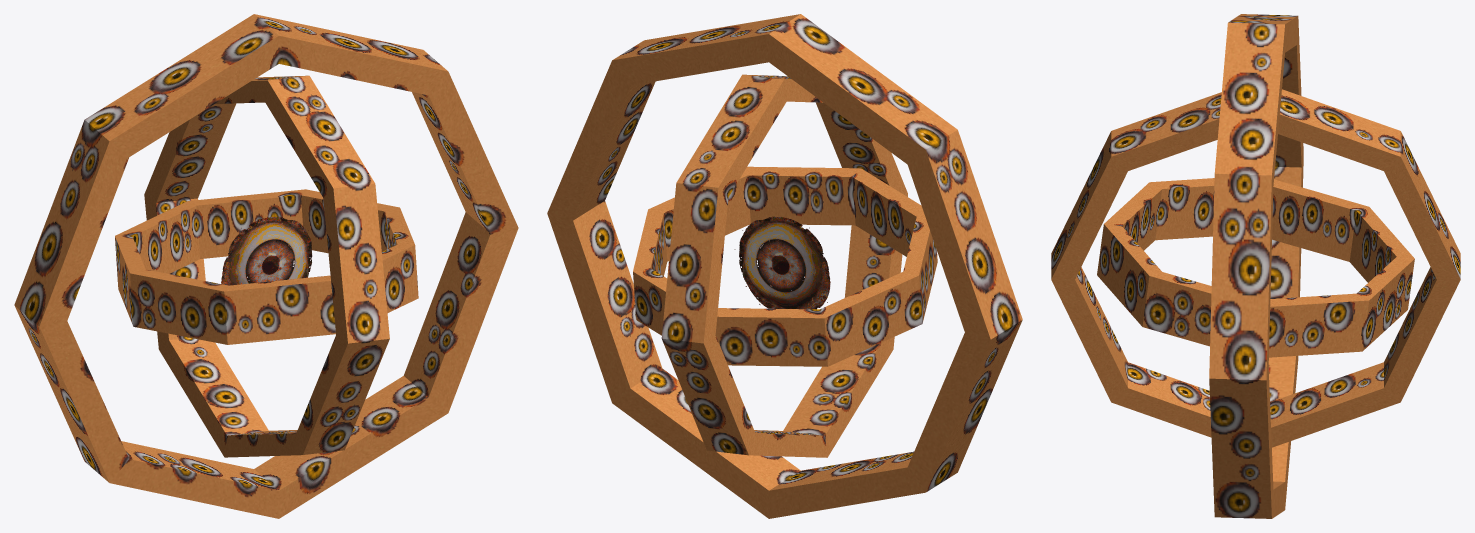
The model's file is ophanim_000005.obj.
3 views of the same model, side by side, from view 1: azimuth 30°, elevation 25°; view 2: azimuth 150°, elevation 25°; view 3: azimuth 270°, elevation 25° (orthographic).
Visible parts, largest first — view 1: Ring3, Ring2, Ring1, Eye; view 2: Ring3, Ring2, Ring1, Eye; view 3: Ring2, Ring3, Ring1.
Part boxes in pixels (x1,y1,x2,y2): Ring3: (14,14,518,518); Ring2: (144,75,389,457); Ring1: (115,189,418,344); Eye: (221,216,316,285); Ring3: (547,14,1022,518); Ring2: (661,74,907,457); Ring1: (633,166,937,366); Eye: (734,216,830,309); Ring2: (1051,89,1460,447); Ring3: (1209,14,1303,518); Ring1: (1097,178,1414,357).
Size of the model in its own units: 0.3486 by 0.3468 by 0.265.
Materials: 2 (2 with a texture image).
